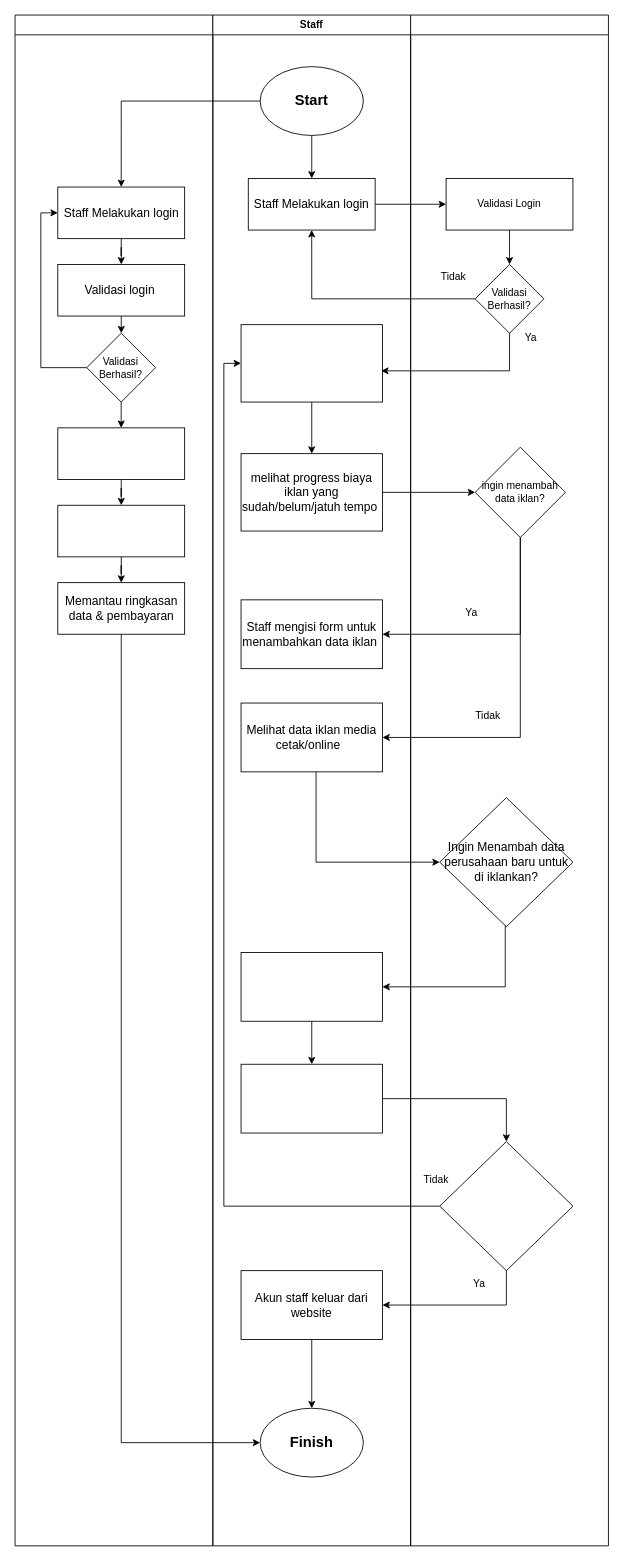
This 624x1561 diagram has some shape labels left out. The box of each missing label's shape, as (x1, y1, x2, y2) in pixels:
Admin: (14, 14, 213, 1546)
Buka halaman dashboard: (57, 427, 185, 479)
menambah fitur website: (57, 504, 185, 557)
Sistem: (410, 14, 608, 1546)
staff logout dari akun website: (240, 1063, 382, 1133)
Staff memasuki halaman Dashboard yaitu halaman utama website: (240, 324, 382, 402)
Staff menambahkan data perushaan baru untuk di iklan kan: (240, 952, 382, 1021)
Yakin ingin keluar dari akun ini?: (439, 1141, 573, 1271)
